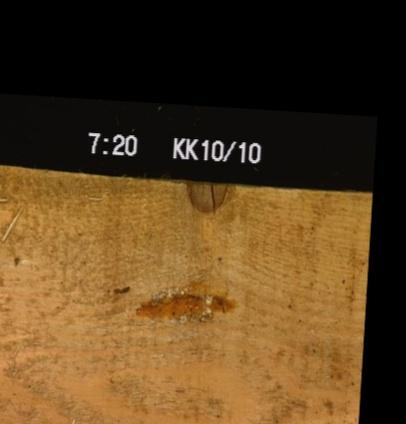edge_knot: (180, 180, 228, 212)
